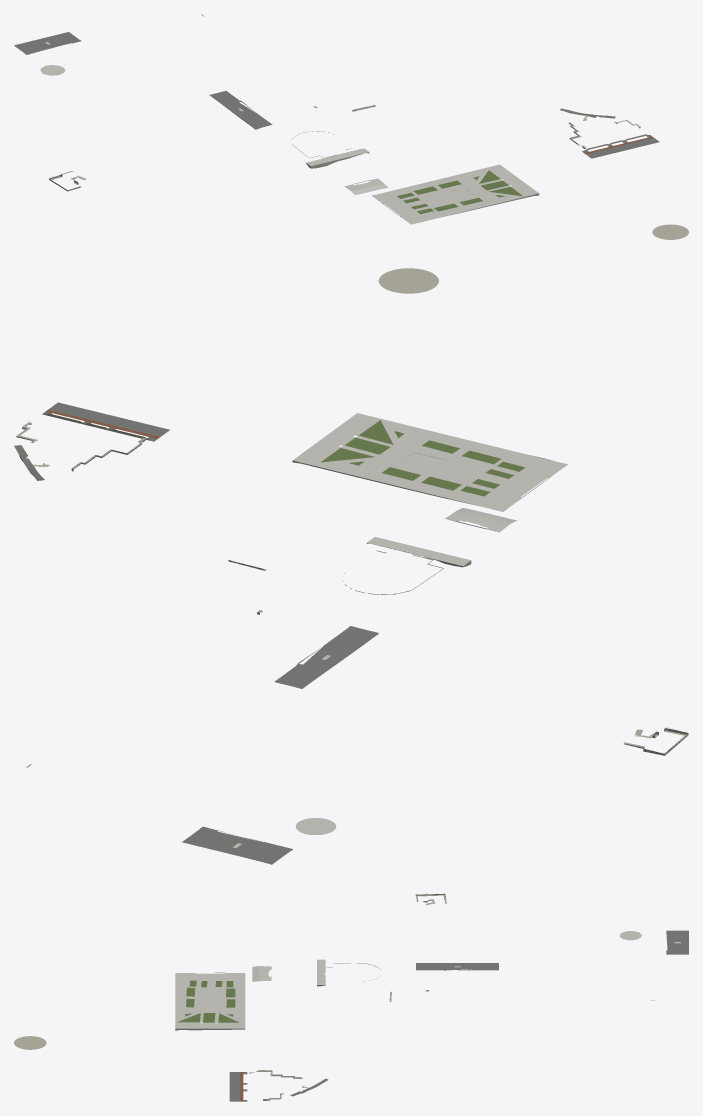
3 renders of one model, top to bottom at view 1: azimuth 30°, elevation 25°; view 2: azimuth 150°, elevation 25°; view 3: azimuth 270°, elevation 25°, orthographic. The views are drawn at different scales.
Visible parts, largest first — view 1: kyungheeGlobal-graniteLight, kyungheeGlobal-asphalt, kyungheeGlobal-grass, gate-forecourt__edgeClosure, kyungheeGlobal-paving; view 2: kyungheeGlobal-graniteLight, kyungheeGlobal-asphalt, kyungheeGlobal-grass, kyungheeGlobal-paving, gate-forecourt__edgeClosure; view 3: kyungheeGlobal-graniteLight, kyungheeGlobal-asphalt, kyungheeGlobal-grass, kyungheeGlobal-paving.
Part boxes in pixels (box(x1,y1,x2,y2)): kyungheeGlobal-graniteLight: box(40, 42, 538, 224); kyungheeGlobal-asphalt: box(14, 32, 659, 158); kyungheeGlobal-grass: box(397, 170, 522, 214); gate-forecourt__edgeClosure: box(14, 40, 648, 221); kyungheeGlobal-paving: box(77, 14, 688, 239); kyungheeGlobal-graniteLight: box(233, 413, 567, 848); kyungheeGlobal-asphalt: box(14, 402, 377, 863); kyungheeGlobal-grass: box(321, 420, 525, 496); kyungheeGlobal-paving: box(26, 268, 642, 767); gate-forecourt__edgeClosure: box(43, 413, 640, 864); kyungheeGlobal-graniteLight: box(175, 931, 680, 1028); kyungheeGlobal-asphalt: box(229, 930, 688, 1101); kyungheeGlobal-grass: box(177, 980, 238, 1022); kyungheeGlobal-paving: box(14, 902, 654, 1088).
Size of the model in its own units: 803 by 40.1 by 1076.
15 materials, 10 textured.
